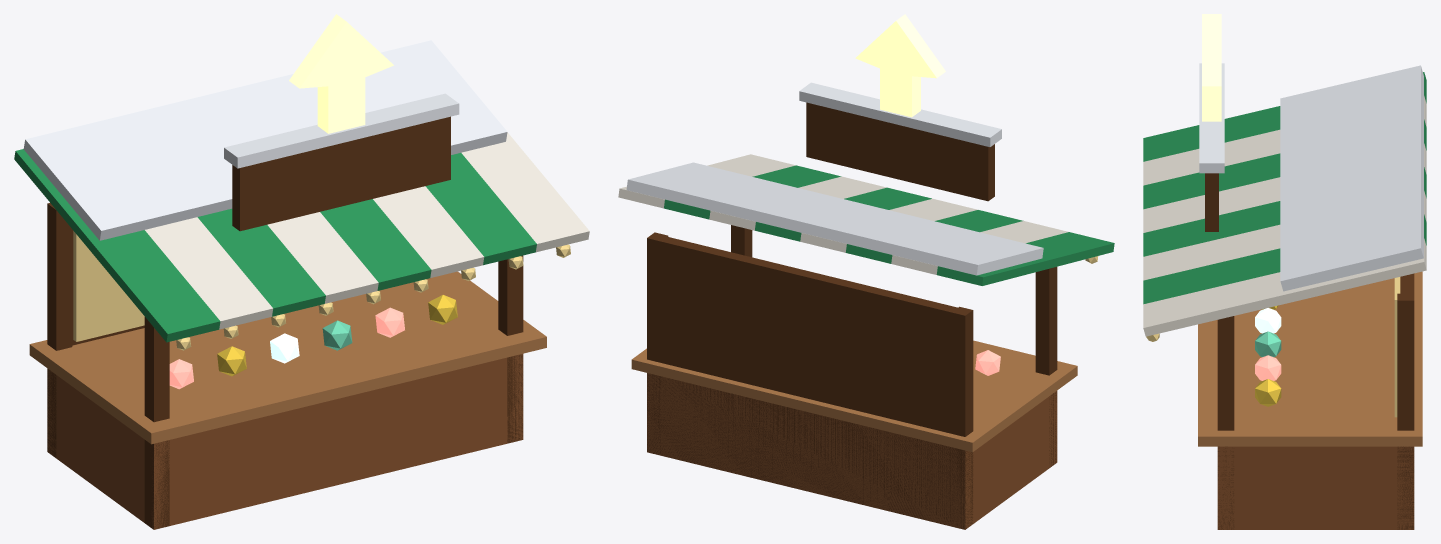
File: StallUpgrade.fbx
The picture shows the model from 3 angles, left to right: view 1: azimuth 30°, elevation 25°; view 2: azimuth 150°, elevation 25°; view 3: azimuth 270°, elevation 25°; orthographic projection. The views are drawn at different scales.
Parts seen in each view (by area): view 1: StallUpgrade_Wood, StallUpgrade_Snow, StallUpgrade_WoodLight, StallUpgrade_WoodDark, StallUpgrade_Green, StallUpgrade_Cream, StallUpgrade_GlowGold, StallUpgrade_GlowWarm, StallUpgrade_Gold, StallUpgrade_GlowRed, StallUpgrade_GlowBlue, StallUpgrade_GlowGreen; view 2: StallUpgrade_WoodDark, StallUpgrade_Wood, StallUpgrade_Snow, StallUpgrade_WoodLight, StallUpgrade_Green, StallUpgrade_Cream, StallUpgrade_GlowGold; view 3: StallUpgrade_Snow, StallUpgrade_WoodLight, StallUpgrade_Wood, StallUpgrade_Cream, StallUpgrade_Green, StallUpgrade_WoodDark, StallUpgrade_GlowGold, StallUpgrade_GlowWarm, StallUpgrade_Gold, StallUpgrade_GlowRed, StallUpgrade_GlowBlue, StallUpgrade_GlowGreen.
Boxes of the visible parts, bbox=[...] form: StallUpgrade_Wood: bbox=[47, 354, 523, 529]; StallUpgrade_Snow: bbox=[23, 40, 507, 240]; StallUpgrade_WoodLight: bbox=[29, 271, 546, 444]; StallUpgrade_WoodDark: bbox=[47, 116, 523, 529]; StallUpgrade_Green: bbox=[14, 149, 536, 342]; StallUpgrade_Cream: bbox=[145, 132, 589, 329]; StallUpgrade_GlowGold: bbox=[289, 14, 393, 133]; StallUpgrade_GlowWarm: bbox=[73, 231, 570, 350]; StallUpgrade_Gold: bbox=[217, 295, 457, 376]; StallUpgrade_GlowRed: bbox=[169, 307, 404, 389]; StallUpgrade_GlowBlue: bbox=[270, 333, 299, 363]; StallUpgrade_GlowGreen: bbox=[322, 320, 352, 350]; StallUpgrade_WoodDark: bbox=[647, 102, 1057, 529]; StallUpgrade_Wood: bbox=[647, 373, 1057, 529]; StallUpgrade_Snow: bbox=[626, 82, 1043, 275]; StallUpgrade_WoodLight: bbox=[631, 340, 1077, 452]; StallUpgrade_Green: bbox=[664, 165, 1114, 285]; StallUpgrade_Cream: bbox=[618, 154, 1068, 274]; StallUpgrade_GlowGold: bbox=[855, 14, 945, 117]; StallUpgrade_Snow: bbox=[1199, 63, 1423, 291]; StallUpgrade_WoodLight: bbox=[1198, 271, 1422, 446]; StallUpgrade_Wood: bbox=[1217, 446, 1414, 529]; StallUpgrade_Cream: bbox=[1143, 96, 1426, 336]; StallUpgrade_Green: bbox=[1143, 72, 1426, 304]; StallUpgrade_WoodDark: bbox=[1205, 173, 1414, 529]; StallUpgrade_GlowGold: bbox=[1202, 14, 1221, 121]; StallUpgrade_GlowWarm: bbox=[1146, 277, 1400, 417]; StallUpgrade_Gold: bbox=[1255, 305, 1281, 406]; StallUpgrade_GlowRed: bbox=[1255, 355, 1281, 380]; StallUpgrade_GlowBlue: bbox=[1255, 308, 1281, 333]; StallUpgrade_GlowGreen: bbox=[1255, 331, 1281, 357].
Bounding box in the file's own units: 1600 × 1700 × 1009.
